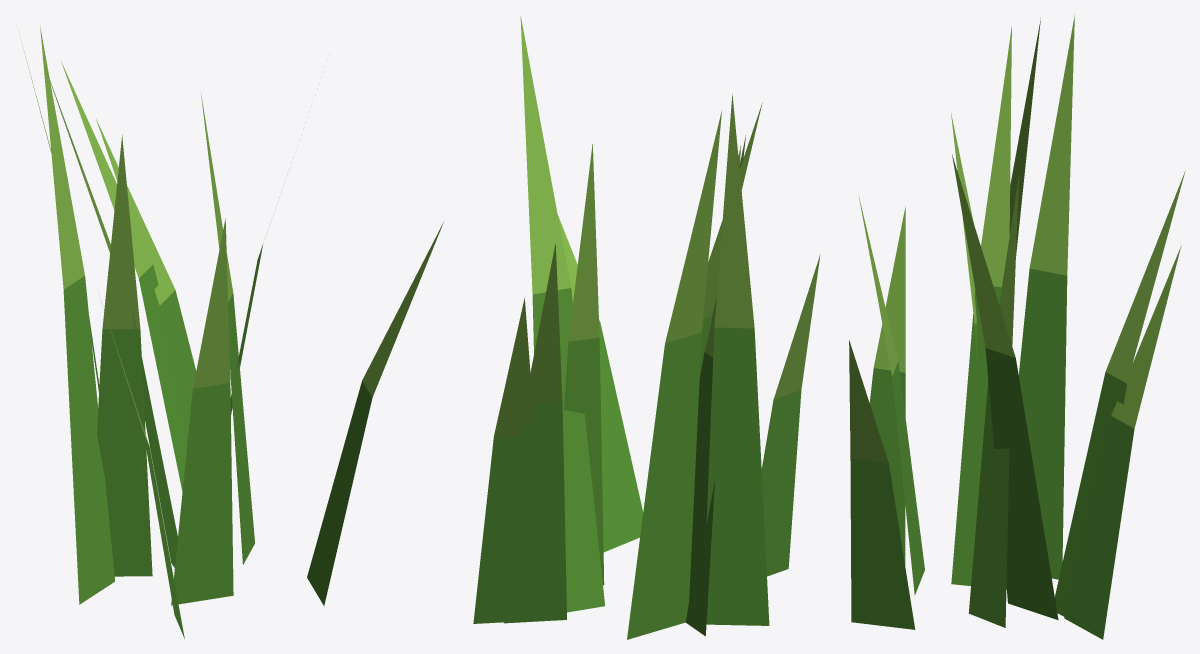
The model's file is Grass_Tall.fbx.
3 renders of one model, left to right at view 1: azimuth 30°, elevation 25°; view 2: azimuth 150°, elevation 25°; view 3: azimuth 270°, elevation 25°, orthographic. The views are drawn at different scales.
Visible parts, largest first — view 1: Grass_Tall; view 2: Grass_Tall; view 3: Grass_Tall.
Boxes of the visible parts, left/top/right/bottom form: Grass_Tall: left=21, top=26, right=443, bottom=639; Grass_Tall: left=473, top=16, right=820, bottom=639; Grass_Tall: left=849, top=14, right=1185, bottom=639.
Bounding box in the file's own units: 0.782 × 1.3 × 0.7612.
